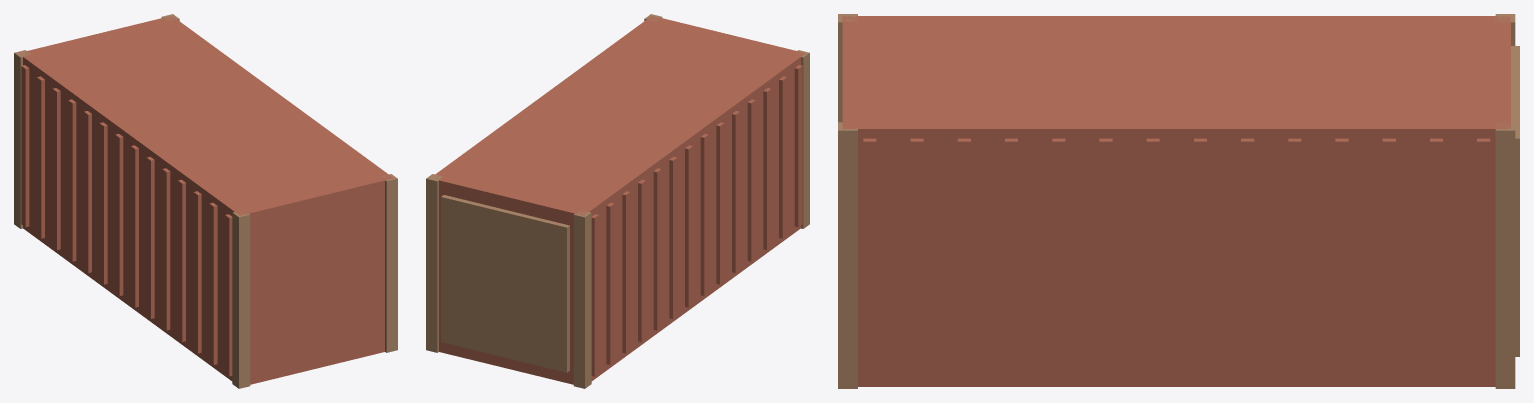
The model's file is Container_Red.fbx.
The picture shows the model from 3 angles, left to right: view 1: azimuth 30°, elevation 25°; view 2: azimuth 150°, elevation 25°; view 3: azimuth 270°, elevation 25°; orthographic projection. The views are drawn at different scales.
Visible parts, largest first — view 1: Container_Red_Mesh; view 2: Container_Red_Mesh; view 3: Container_Red_Mesh.
Boxes of the visible parts, x1=… form: Container_Red_Mesh: x1=14, y1=14, x2=397, y2=388; Container_Red_Mesh: x1=426, y1=14, x2=809, y2=388; Container_Red_Mesh: x1=838, y1=14, x2=1519, y2=388.
Size of the model in its own units: 2.56 by 6.22 by 2.6.
